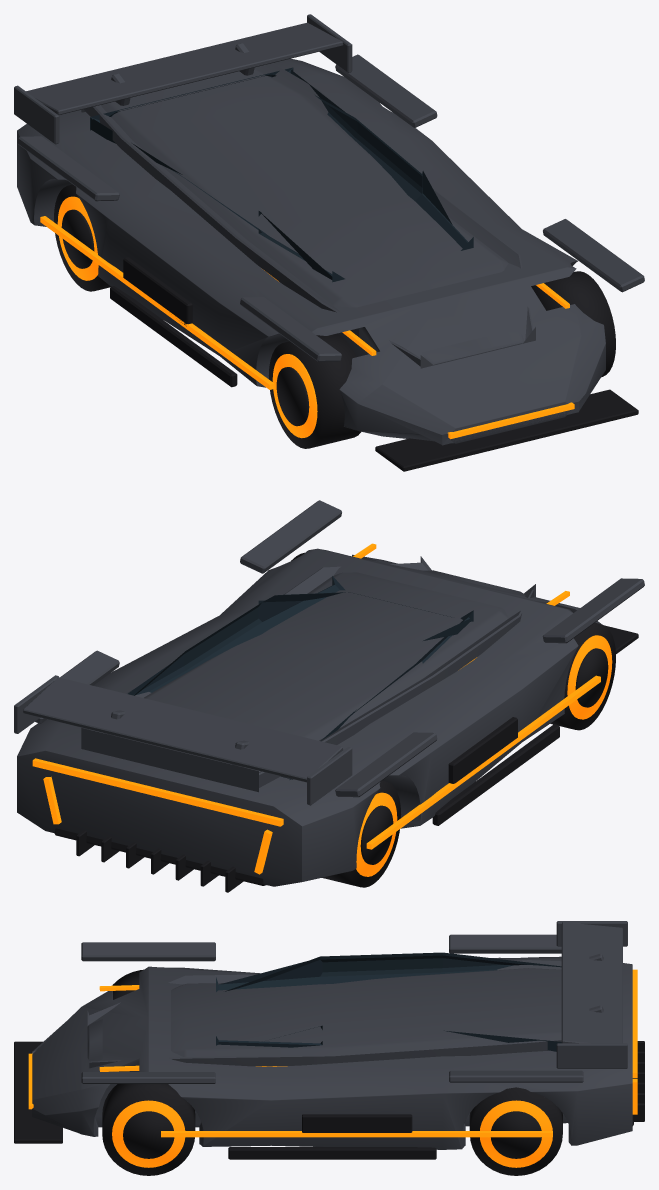
File: car.glb
The picture shows the model from 3 angles, top to bottom: view 1: azimuth 30°, elevation 25°; view 2: azimuth 150°, elevation 25°; view 3: azimuth 270°, elevation 25°; orthographic projection. The views are drawn at different scales.
Visible parts, largest first — view 1: body, trim, wheel_fl, canopy, light_strips, wheel_rl, wheel_fr; view 2: body, trim, light_strips, canopy, wheel_fl, wheel_rl; view 3: body, trim, canopy, wheel_fr, wheel_rr, light_strips, wheel_fl.
Part boxes in pixels (bbox=[...]): body: bbox=[14, 14, 644, 445]; trim: bbox=[110, 257, 638, 471]; wheel_fl: bbox=[268, 333, 361, 448]; canopy: bbox=[90, 67, 473, 282]; light_strips: bbox=[40, 216, 574, 439]; wheel_rl: bbox=[54, 184, 110, 291]; wheel_fr: bbox=[531, 271, 615, 377]; body: bbox=[14, 500, 644, 886]; trim: bbox=[54, 625, 638, 892]; light_strips: bbox=[32, 543, 600, 874]; canopy: bbox=[127, 576, 473, 779]; wheel_fl: bbox=[550, 622, 615, 730]; wheel_rl: bbox=[322, 780, 401, 887]; body: bbox=[32, 921, 632, 1149]; trim: bbox=[14, 1041, 644, 1159]; canopy: bbox=[216, 952, 561, 1051]; wheel_fr: bbox=[102, 1084, 195, 1175]; wheel_rr: bbox=[469, 1087, 562, 1175]; light_strips: bbox=[28, 969, 637, 1137]; wheel_fl: bbox=[112, 969, 143, 999].
Bounding box in the file's own units: 2.76 × 1.21 × 5.15.
